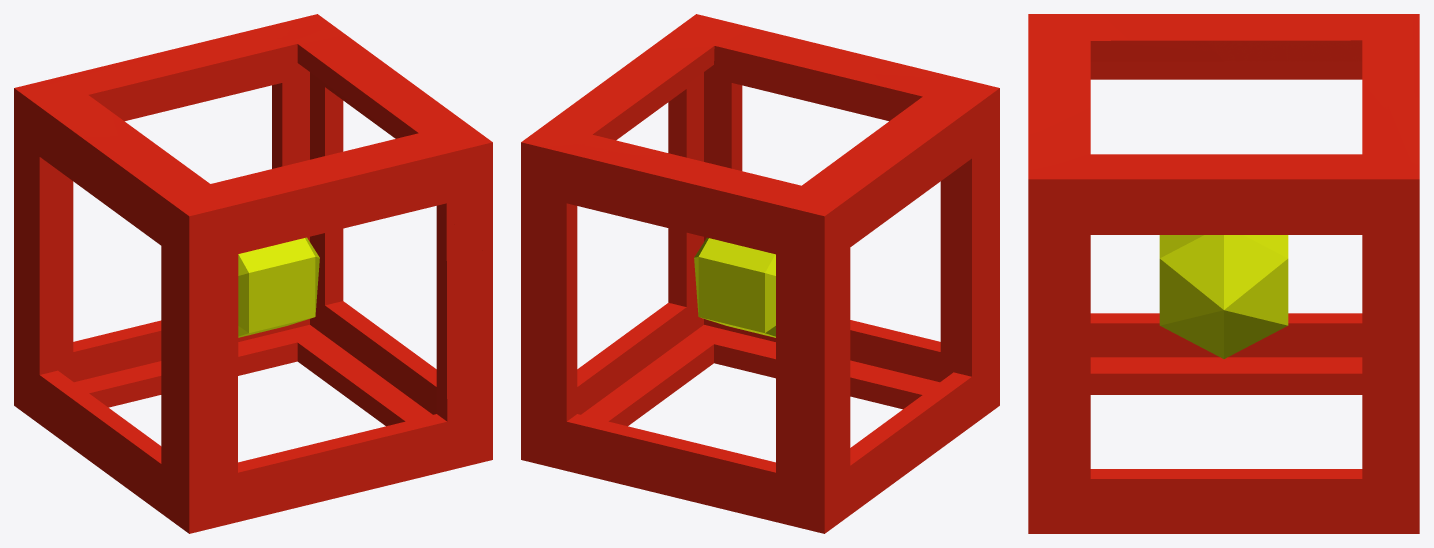
The model's file is lamp2.fbx.
3 views of the same model, side by side, from view 1: azimuth 30°, elevation 25°; view 2: azimuth 150°, elevation 25°; view 3: azimuth 270°, elevation 25° (orthographic). The views are drawn at different scales.
Visible parts, largest first — view 1: PR_floorlamp_02, PR_floorlamp_02_cell.003, PR_floorlamp_02_cell.005, PR_floorlamp_02_cell.001, PR_floorlamp_02_cell, PR_floorlamp_02_cell.002, PR_floorlamp_02_cell.007, PR_floorlamp_02_cell.004; view 2: PR_floorlamp_02, PR_floorlamp_02_cell.005, PR_floorlamp_02_cell.003, PR_floorlamp_02_cell.001, PR_floorlamp_02_cell.004, PR_floorlamp_02_cell, PR_floorlamp_02_cell.008, PR_floorlamp_02_cell.002; view 3: PR_floorlamp_02, PR_floorlamp_02_cell.005, PR_floorlamp_02_cell.003, PR_floorlamp_02_cell.004, PR_floorlamp_02_cell.008, PR_floorlamp_02_cell, PR_floorlamp_02_cell.001, PR_floorlamp_02_cell.007.
Boxes of the visible parts, x1,y1,x2,y2 form: PR_floorlamp_02: (14, 14, 492, 521); PR_floorlamp_02_cell.003: (81, 145, 492, 521); PR_floorlamp_02_cell.005: (14, 20, 492, 371); PR_floorlamp_02_cell.001: (58, 272, 394, 413); PR_floorlamp_02_cell: (14, 109, 115, 468); PR_floorlamp_02_cell.002: (171, 479, 239, 533); PR_floorlamp_02_cell.007: (238, 255, 317, 337); PR_floorlamp_02_cell.004: (99, 415, 180, 520); PR_floorlamp_02: (521, 39, 999, 533); PR_floorlamp_02_cell.005: (521, 14, 894, 412); PR_floorlamp_02_cell.003: (634, 38, 999, 391); PR_floorlamp_02_cell.001: (547, 260, 800, 525); PR_floorlamp_02_cell.004: (909, 340, 991, 469); PR_floorlamp_02_cell: (800, 175, 909, 532); PR_floorlamp_02_cell.008: (694, 237, 775, 290); PR_floorlamp_02_cell.002: (982, 354, 999, 418); PR_floorlamp_02: (1028, 14, 1419, 533); PR_floorlamp_02_cell.005: (1028, 40, 1419, 533); PR_floorlamp_02_cell.003: (1028, 14, 1267, 533); PR_floorlamp_02_cell.004: (1090, 313, 1228, 394); PR_floorlamp_02_cell.008: (1170, 235, 1288, 330); PR_floorlamp_02_cell: (1229, 61, 1362, 360); PR_floorlamp_02_cell.001: (1224, 361, 1395, 533); PR_floorlamp_02_cell.007: (1159, 235, 1223, 358).
Size of the model in its own units: 333 by 333 by 333.
